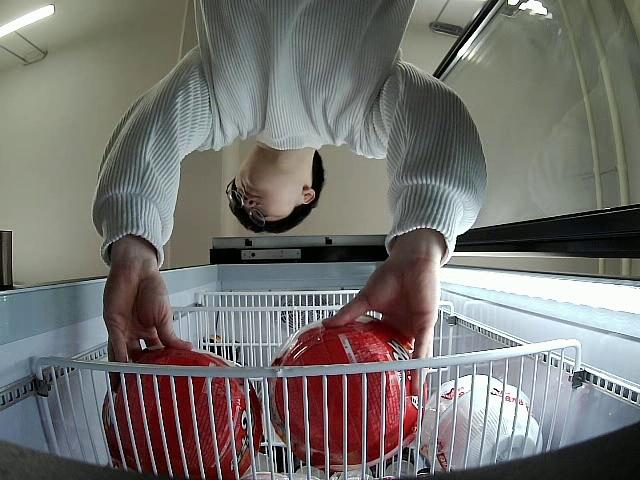00_hand: (321, 265, 440, 398), (101, 271, 191, 386)
10_wangTtukkeong: (271, 316, 417, 470), (103, 345, 260, 479)
